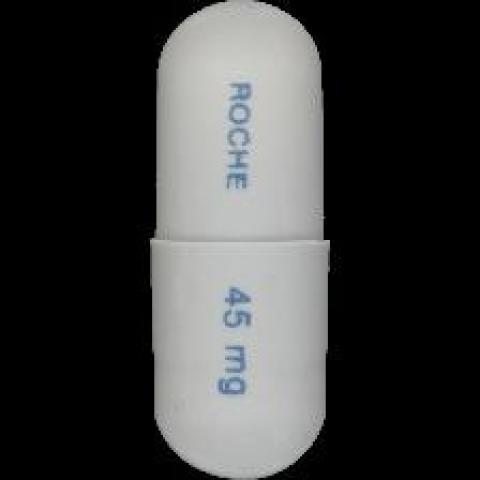Pill: (111, 2, 373, 480)
